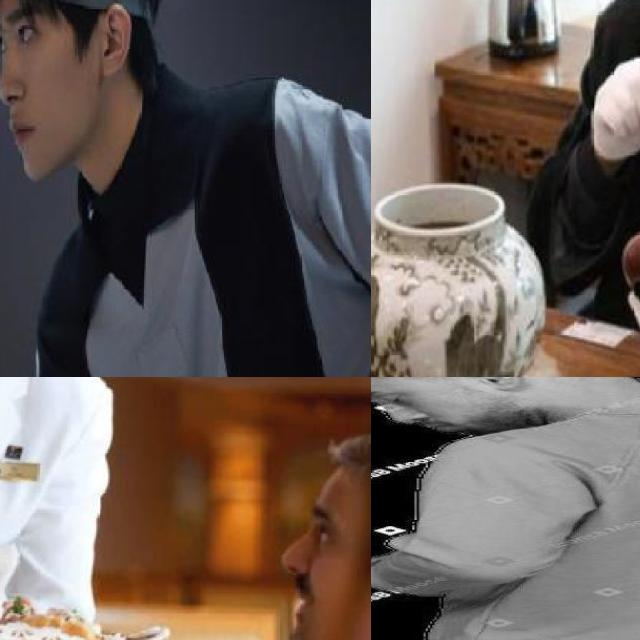No_Ear-Protection: (456, 377, 527, 400)
face_nomask: (0, 0, 91, 182), (270, 496, 351, 631), (397, 406, 504, 447)
hand_glove: (591, 52, 640, 160)
person: (0, 0, 371, 377), (371, 377, 640, 640), (565, 0, 640, 377)
